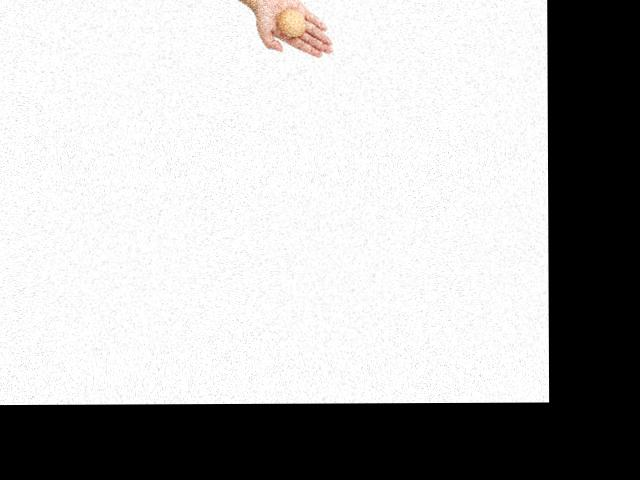egg: (276, 8, 305, 36)
